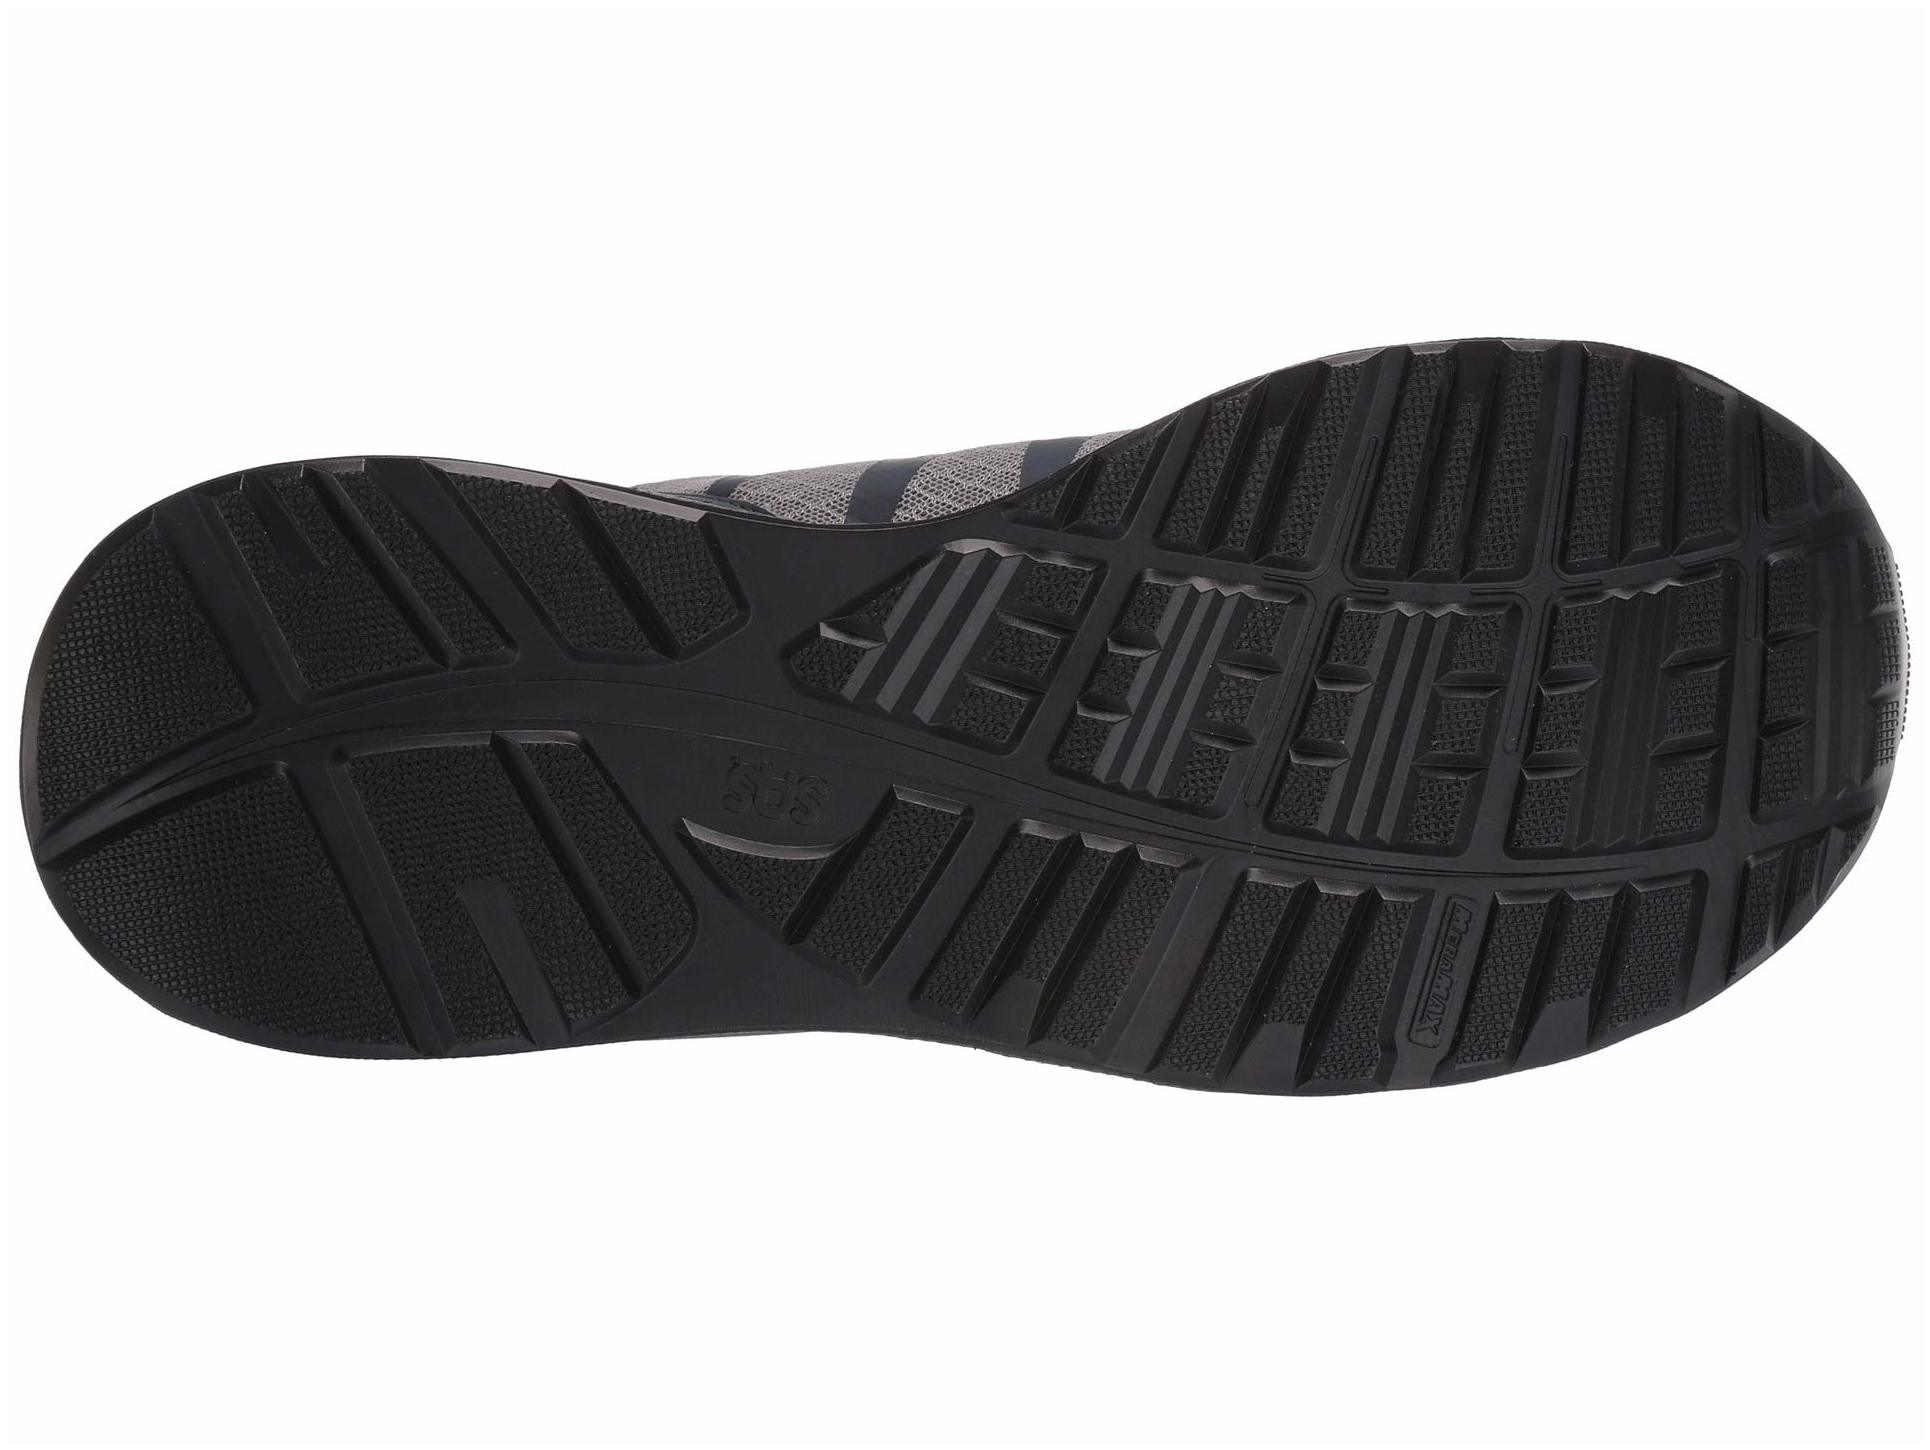line: (1277, 557, 1660, 908)
quad: (1277, 557, 1660, 908), (911, 794, 1225, 1069)
text: (657, 682, 919, 957)
triangle: (657, 682, 919, 957)
